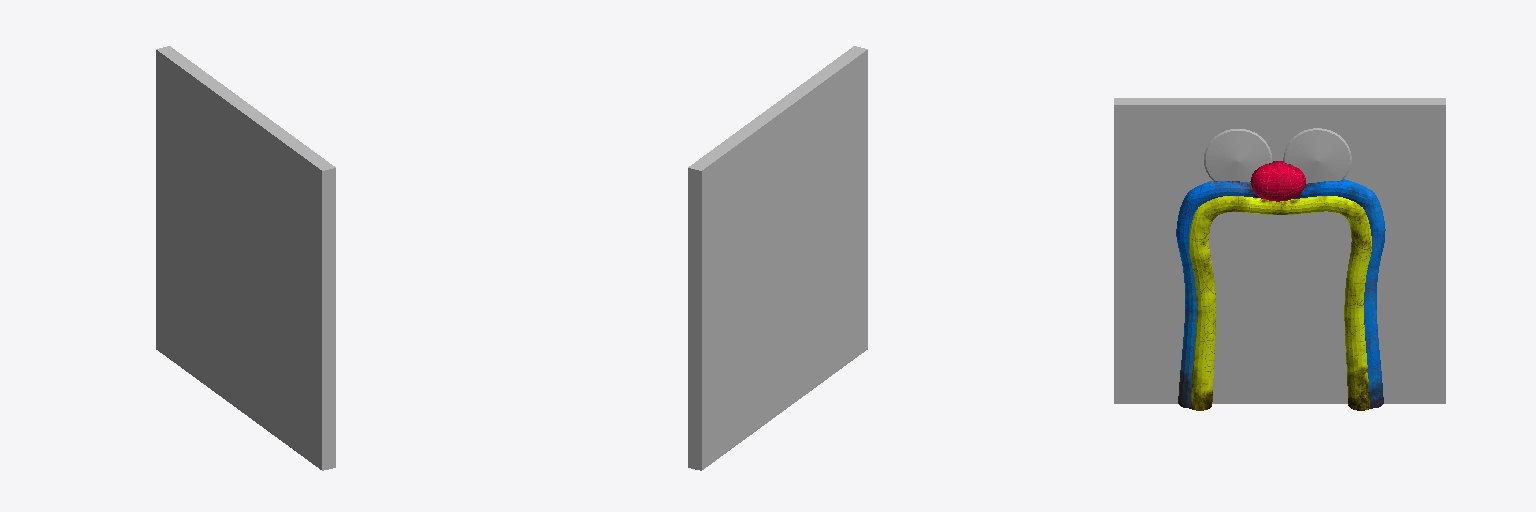
3 renders of one model, left to right at view 1: azimuth 30°, elevation 25°; view 2: azimuth 150°, elevation 25°; view 3: azimuth 270°, elevation 25°, orthographic.
Parts seen in each view (by area): view 1: Cube.003; view 2: Cube.003; view 3: Cube.003, Cube.001, Cube.002, Sphere.001, Sphere, Cube.004.
Part boxes in pixels (x1,y1,x2,y2): Cube.003: (156, 46, 335, 470); Cube.003: (688, 46, 867, 470); Cube.003: (1114, 98, 1445, 403); Cube.001: (1189, 196, 1371, 410); Cube.002: (1176, 179, 1385, 408); Sphere.001: (1283, 128, 1351, 183); Sphere: (1204, 129, 1271, 182); Cube.004: (1250, 161, 1305, 201).
Bounding box in the file's own units: 0.9291 × 7.91 × 7.95.
5 materials, 3 textured.